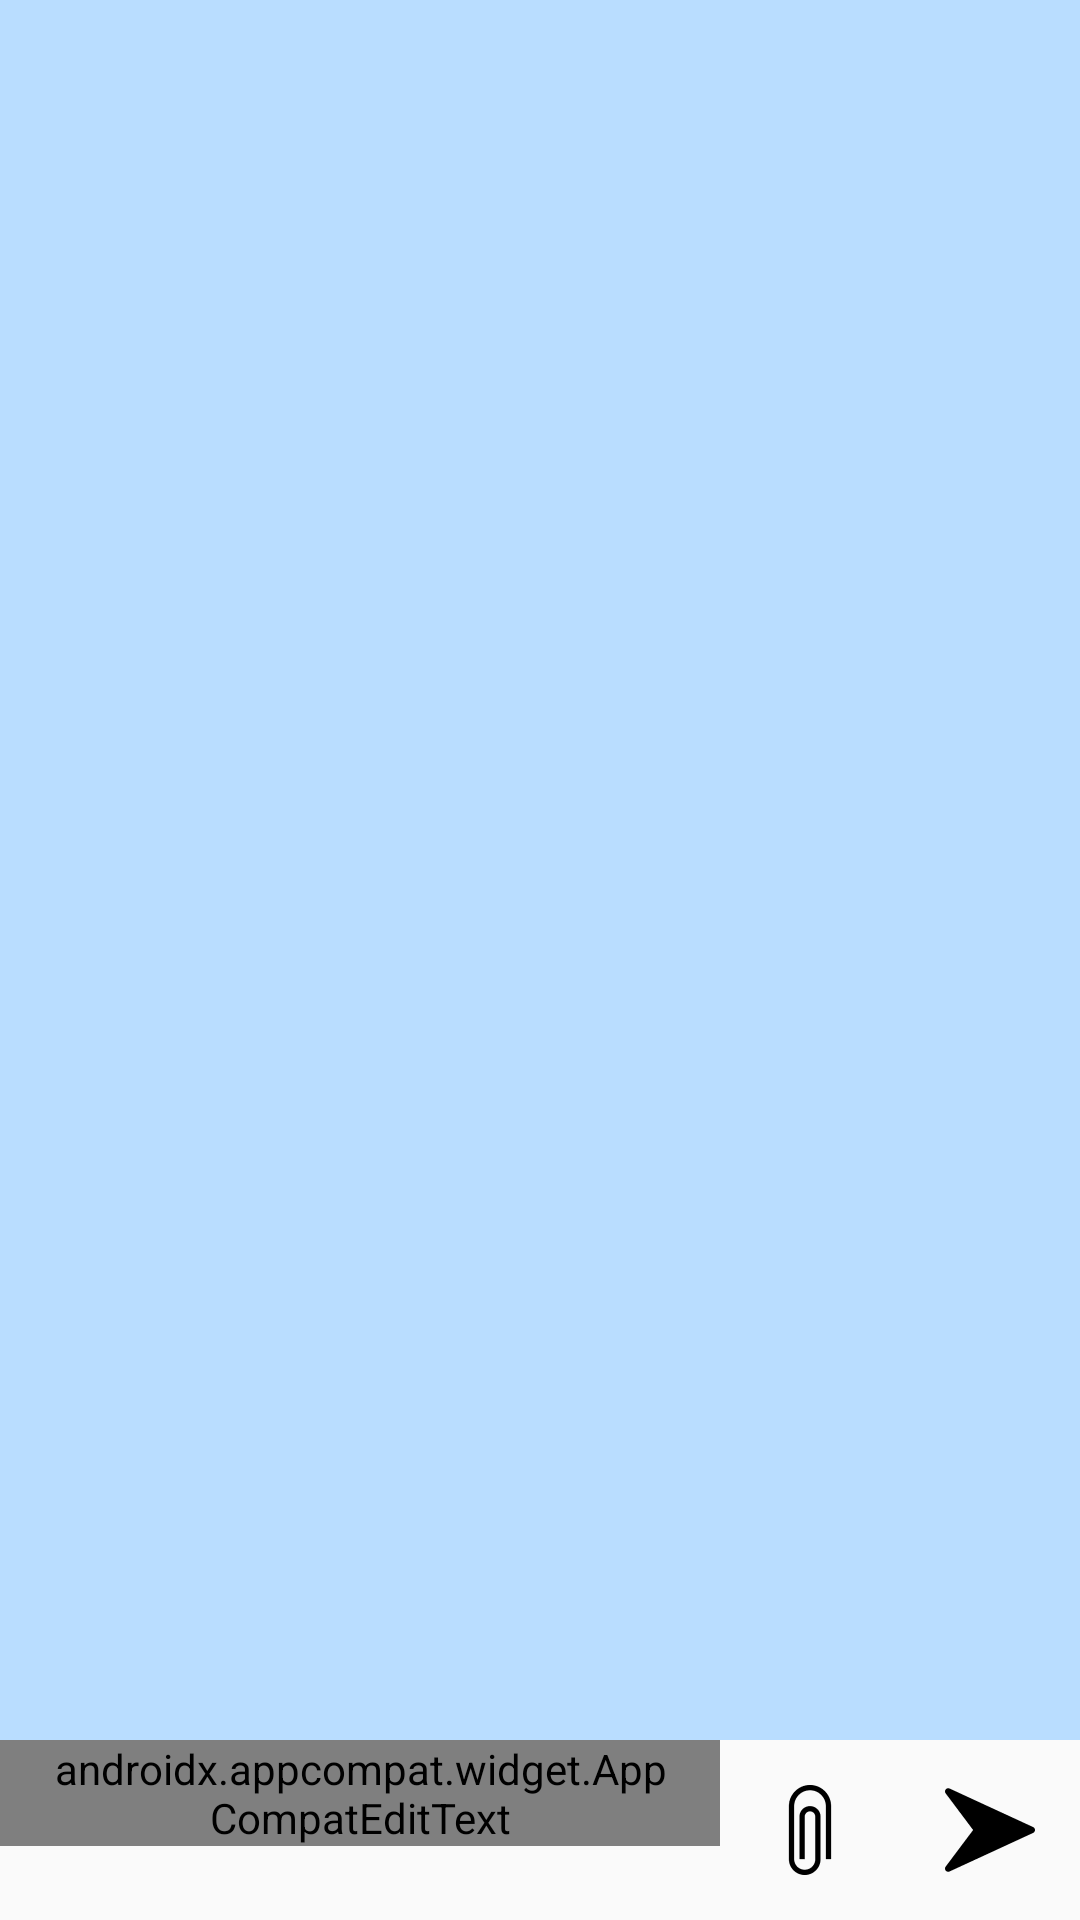

Named icons in this screenshot (1080w x 1920h) and their centers, (x,y):
attach: (810,1830)
send: (990,1830)
